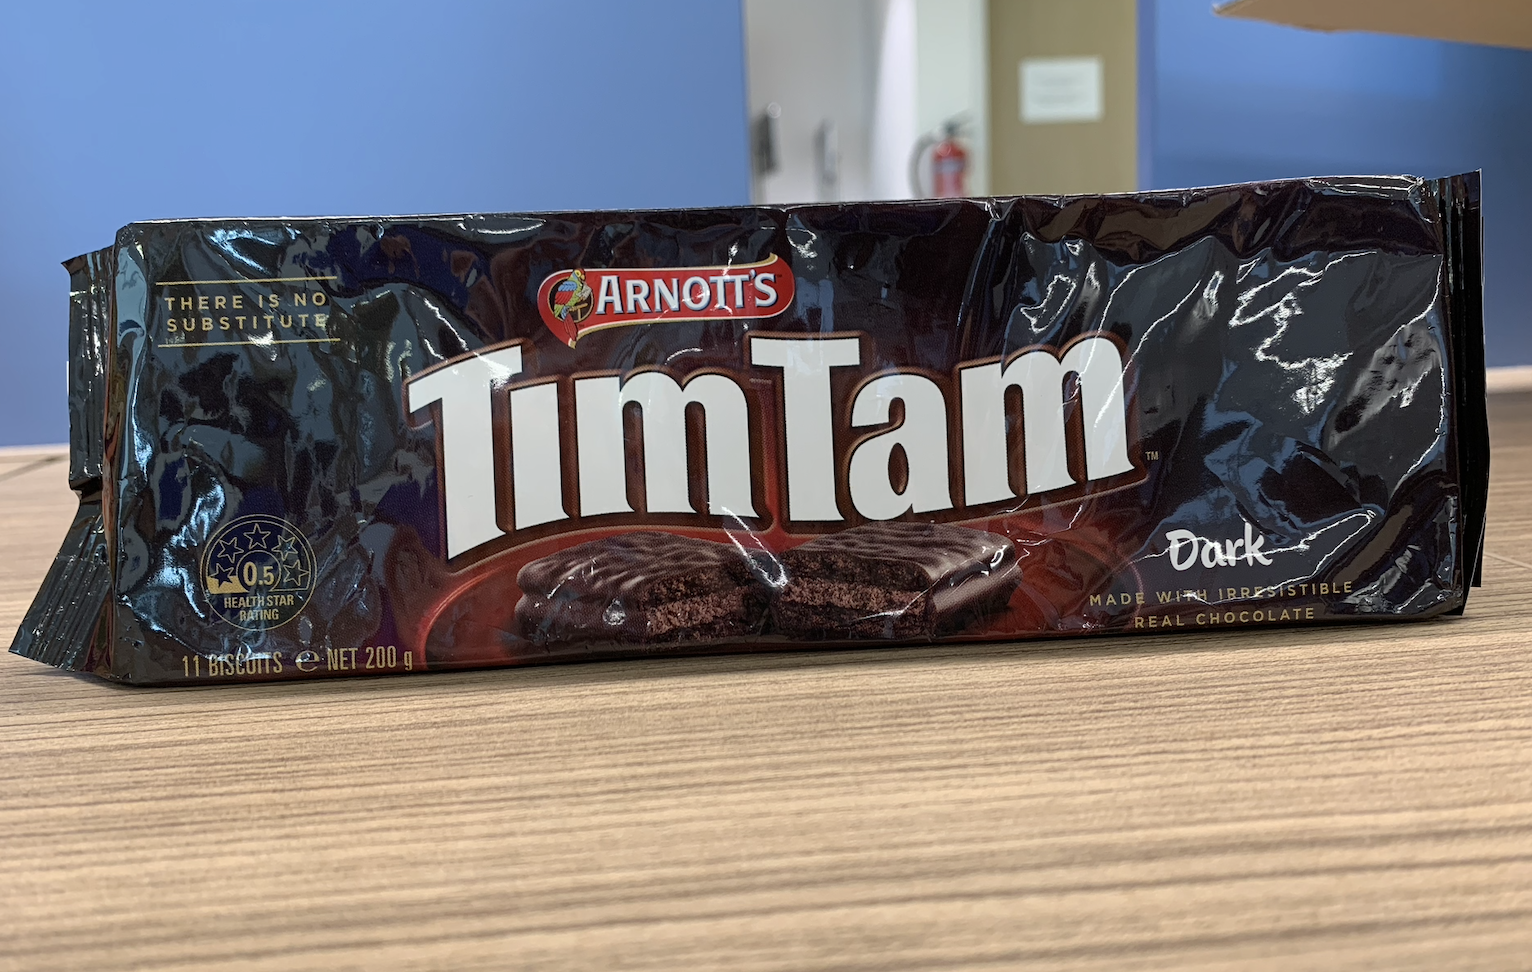cookies_200g-299g: (151, 238, 1375, 671)
